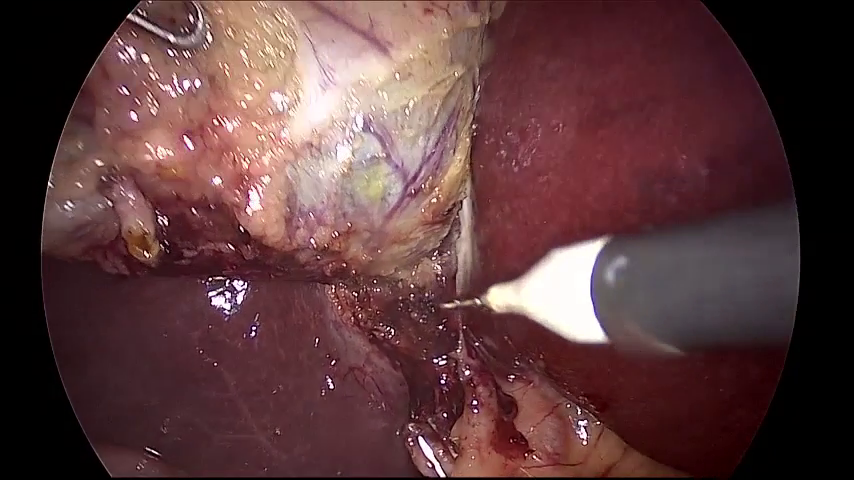grasper: (125, 1, 208, 53)
lhook: (440, 204, 800, 354)
